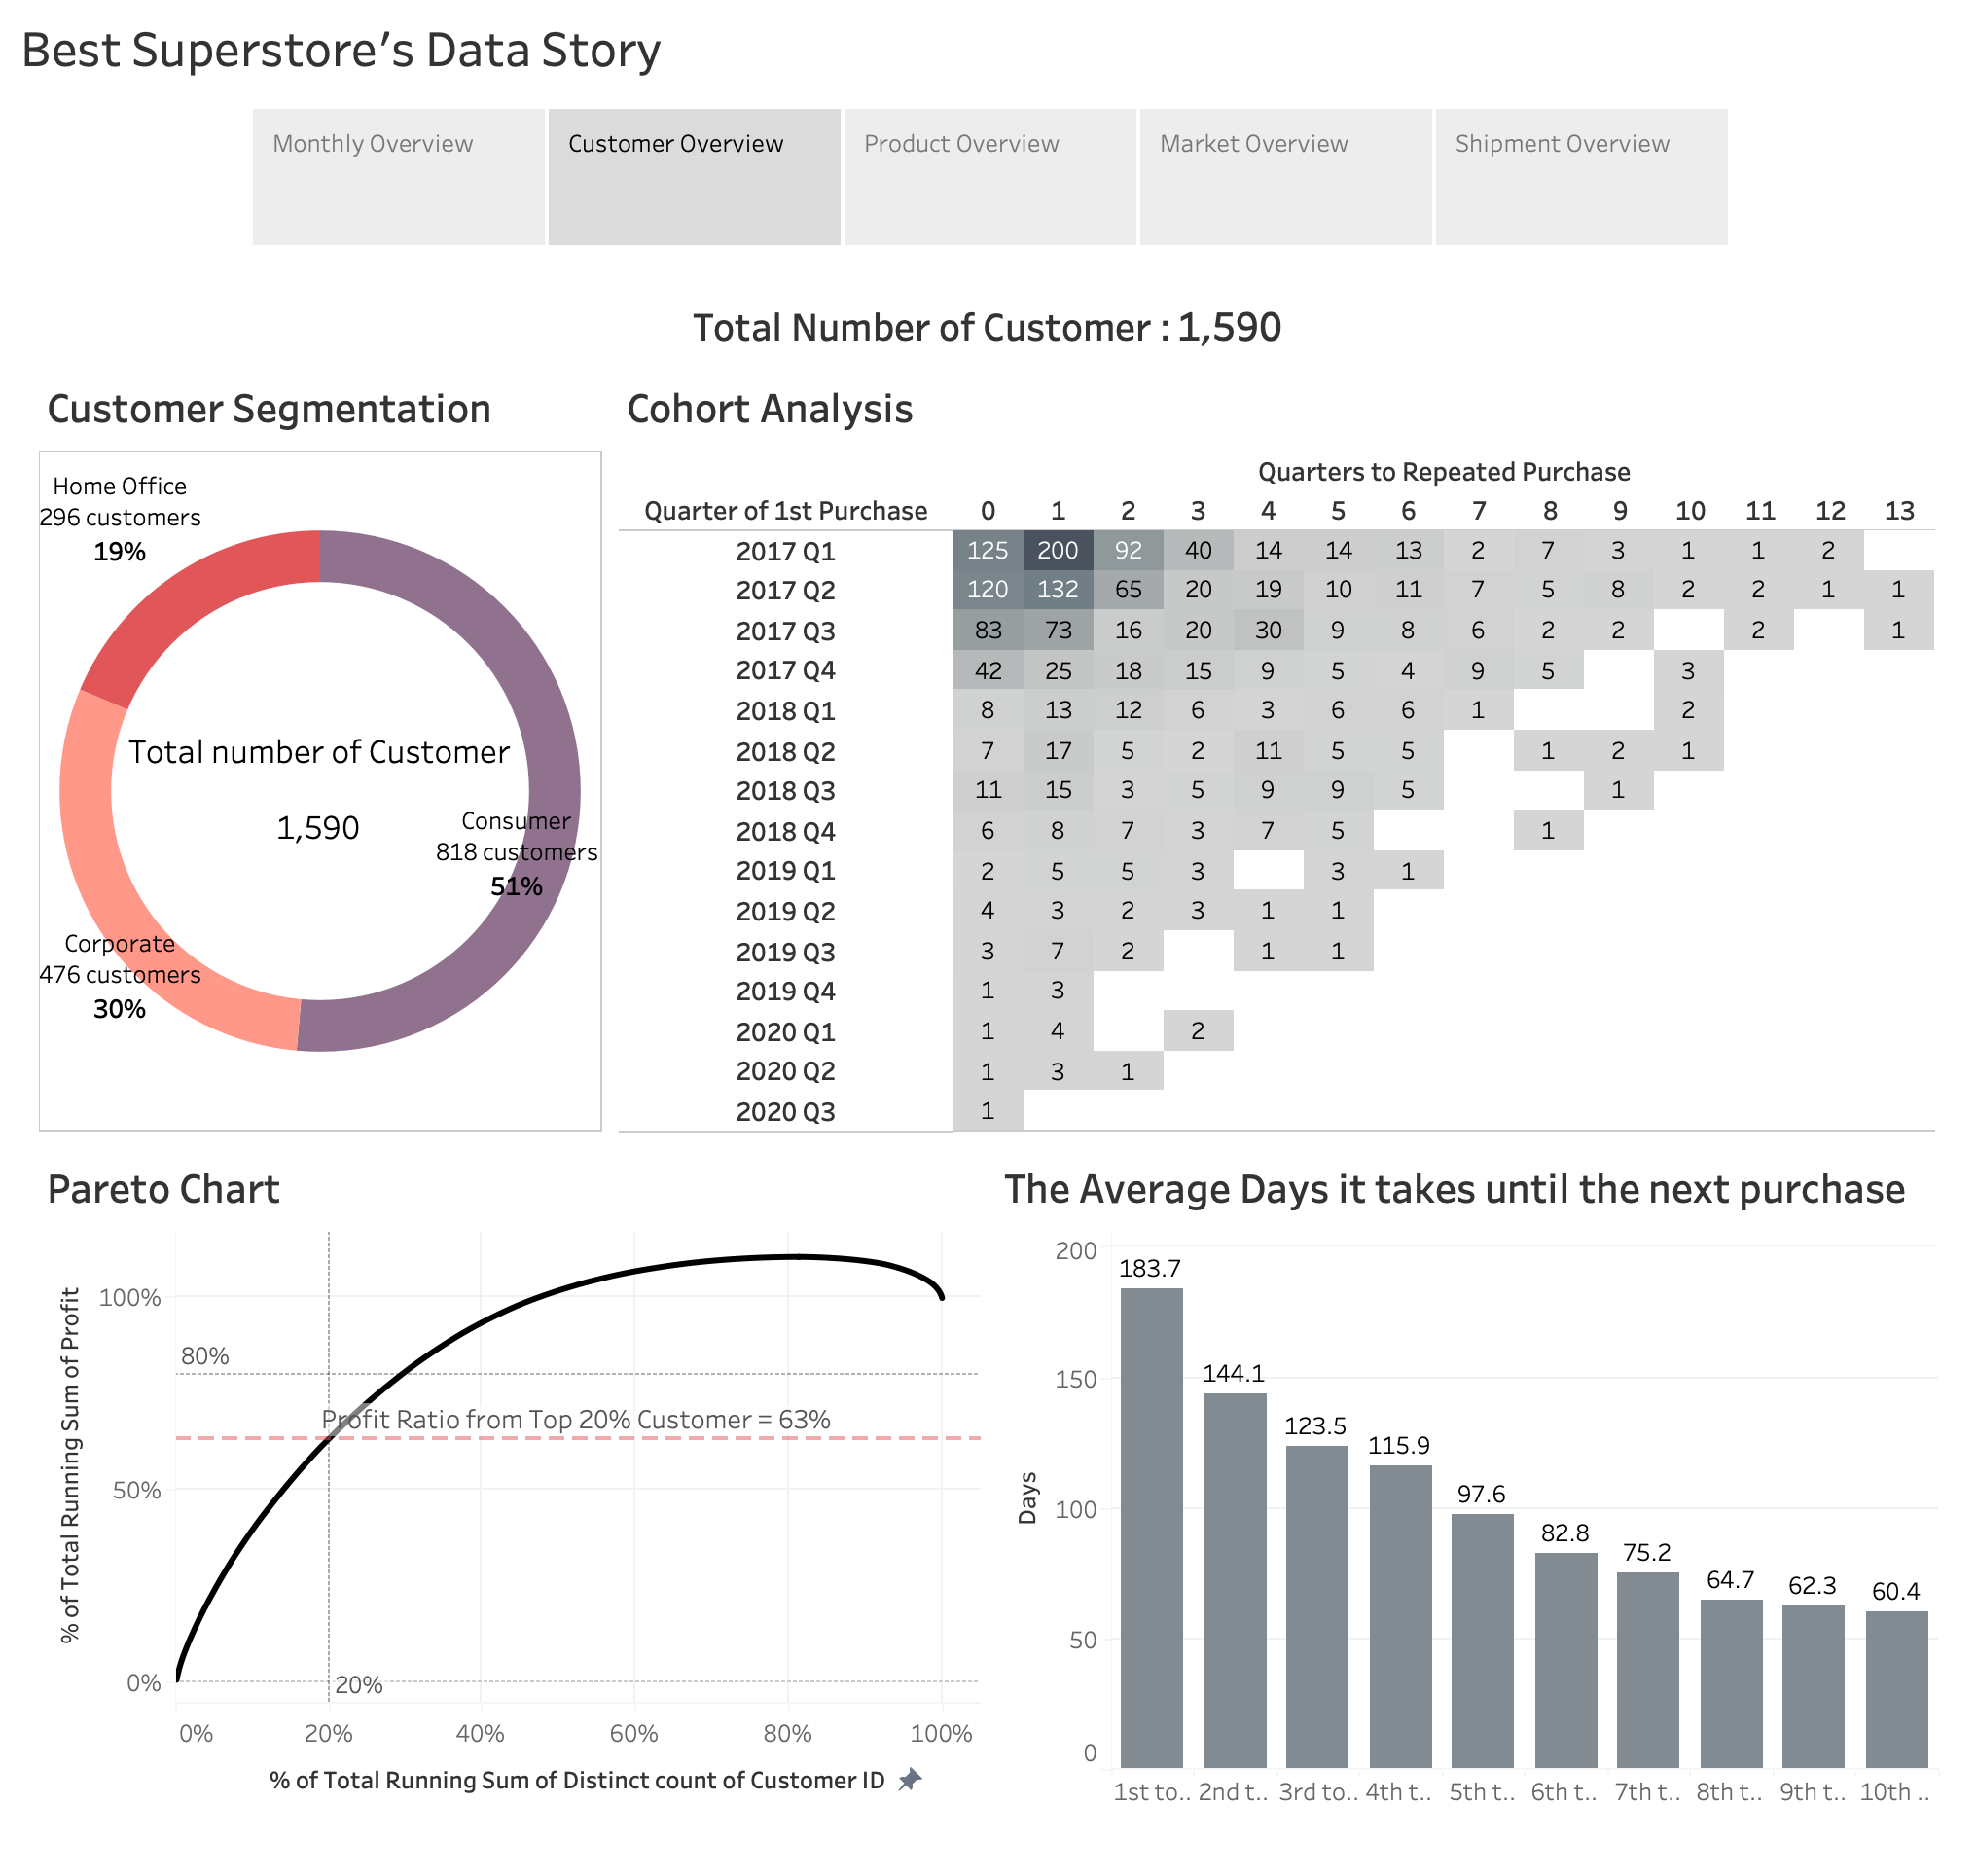

The page's visual inventory and layout, read from the dashboard file:
{"tool":"tableau","page":{"name":"Customer Overview","canvas":[1000,800],"ordinal":1},"visuals":[{"type":"worksheet","title":"Total Number of Customer","mark":"Automatic","box":[8,8,984,35]},{"type":"worksheet","title":"Customer Segmentation","mark":"Pie","cols":["Calculation_1781173713439481858","Calculation_1781173713439481858"],"box":[8,43,298.5,401]},{"type":"worksheet","title":"Cohort Analysis","mark":"Automatic","rows":["Calculation_1781173713861029892"],"cols":["Calculation_1781173713862762503"],"box":[306.5,43,685.5,401]},{"type":"worksheet","title":"Pareto Chart","mark":"Line","box":[8,444,492,348]},{"type":"worksheet","title":"The Average Days it takes until the next purchase","mark":"Automatic","box":[500,444,492,348]}]}

Visuals, with their boxes on the page's 1000x800 design canvas (x1, y1, x2, y2). These are canvas units, not pixel positions in the 1977x1876 screenshot, which may show the page scaled, cropped or inside an application window:
"Total Number of Customer" worksheet: (left=8, top=8, right=992, bottom=43)
"Customer Segmentation" worksheet (Pie marks): (left=8, top=43, right=306, bottom=444)
"Cohort Analysis" worksheet: (left=306, top=43, right=992, bottom=444)
"Pareto Chart" worksheet (Line marks): (left=8, top=444, right=500, bottom=792)
"The Average Days it takes until the next purchase" worksheet: (left=500, top=444, right=992, bottom=792)
